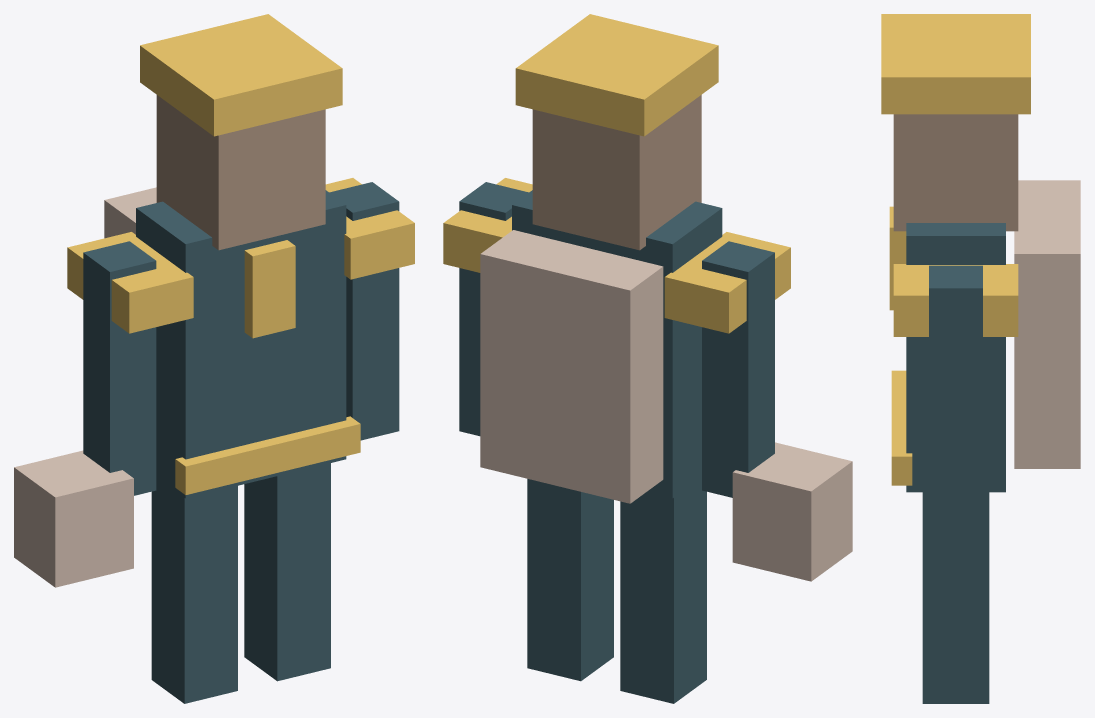
File: 18_bryn_ashvein_tamer_near_veilwalk.glb
3 views of the same model, side by side, from view 1: azimuth 30°, elevation 25°; view 2: azimuth 150°, elevation 25°; view 3: azimuth 270°, elevation 25° (orthographic).
Visible parts, largest first — view 1: Bryn Ashvein, Tamer near Veilwalk; view 2: Bryn Ashvein, Tamer near Veilwalk; view 3: Bryn Ashvein, Tamer near Veilwalk.
Part boxes in pixels (box(x1,y1,x2,y2)): Bryn Ashvein, Tamer near Veilwalk: box(14, 14, 414, 703); Bryn Ashvein, Tamer near Veilwalk: box(443, 14, 852, 703); Bryn Ashvein, Tamer near Veilwalk: box(881, 14, 1080, 703).
Bounding box in the file's own units: 1.02 × 1.69 × 0.4899.
